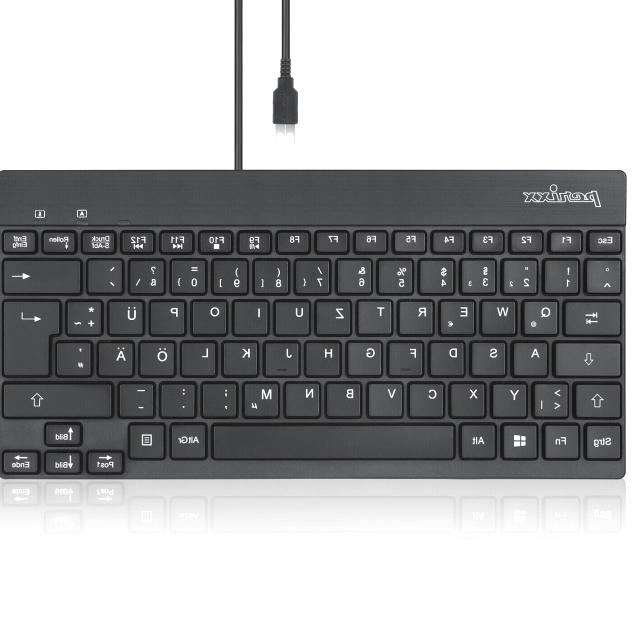0: (172, 256, 210, 294)
1: (546, 256, 582, 292)
2: (504, 256, 541, 293)
3: (462, 256, 500, 293)
4: (421, 256, 457, 293)
5: (379, 256, 417, 294)
6: (338, 255, 376, 293)
7: (297, 256, 334, 294)
8: (255, 256, 293, 294)
9: (214, 256, 252, 293)
a: (514, 338, 551, 376)
accent: (89, 256, 126, 292)
ae: (99, 338, 137, 376)
alt-left: (461, 420, 499, 458)
altgr-right: (171, 420, 209, 458)
b: (327, 379, 365, 417)
c: (410, 379, 448, 417)
caret: (588, 256, 624, 292)
comma: (203, 378, 241, 416)
d: (431, 338, 469, 376)
del: (3, 256, 83, 293)
e: (441, 297, 479, 335)
enter: (3, 296, 64, 376)
f: (391, 338, 427, 375)
g: (350, 337, 386, 375)
h: (308, 338, 344, 376)
hash: (58, 337, 95, 375)
i: (235, 297, 271, 334)
j: (267, 338, 303, 376)
k: (225, 337, 261, 375)
keyboard: (0, 165, 631, 485)
l: (183, 338, 220, 376)
less: (534, 379, 572, 417)
m: (245, 379, 283, 417)
minus: (120, 379, 158, 416)
n: (287, 379, 324, 417)
o: (193, 297, 231, 335)
oe: (141, 338, 179, 376)
p: (151, 297, 189, 335)
plus: (69, 297, 106, 334)
point: (162, 379, 200, 416)
q: (524, 297, 562, 335)
r: (400, 297, 438, 335)
s: (473, 338, 510, 376)
shift-left: (576, 381, 624, 418)
shift-lock: (555, 339, 623, 376)
shift-right: (2, 379, 116, 417)
space: (213, 421, 459, 459)
ss: (131, 256, 169, 293)
strg-left: (586, 421, 624, 459)
t: (359, 296, 395, 333)
tab: (565, 297, 624, 335)
u: (277, 297, 314, 335)
ue: (110, 297, 148, 335)
v: (369, 379, 406, 417)
w: (482, 296, 520, 334)
x: (451, 379, 489, 417)
y: (494, 379, 530, 417)
z: (318, 297, 355, 335)
